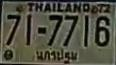1: (26, 14, 31, 44), (84, 15, 88, 46)
6: (94, 15, 109, 46)
7: (62, 14, 78, 46), (48, 14, 62, 45), (6, 14, 20, 44)
NPT: (34, 48, 79, 64)
